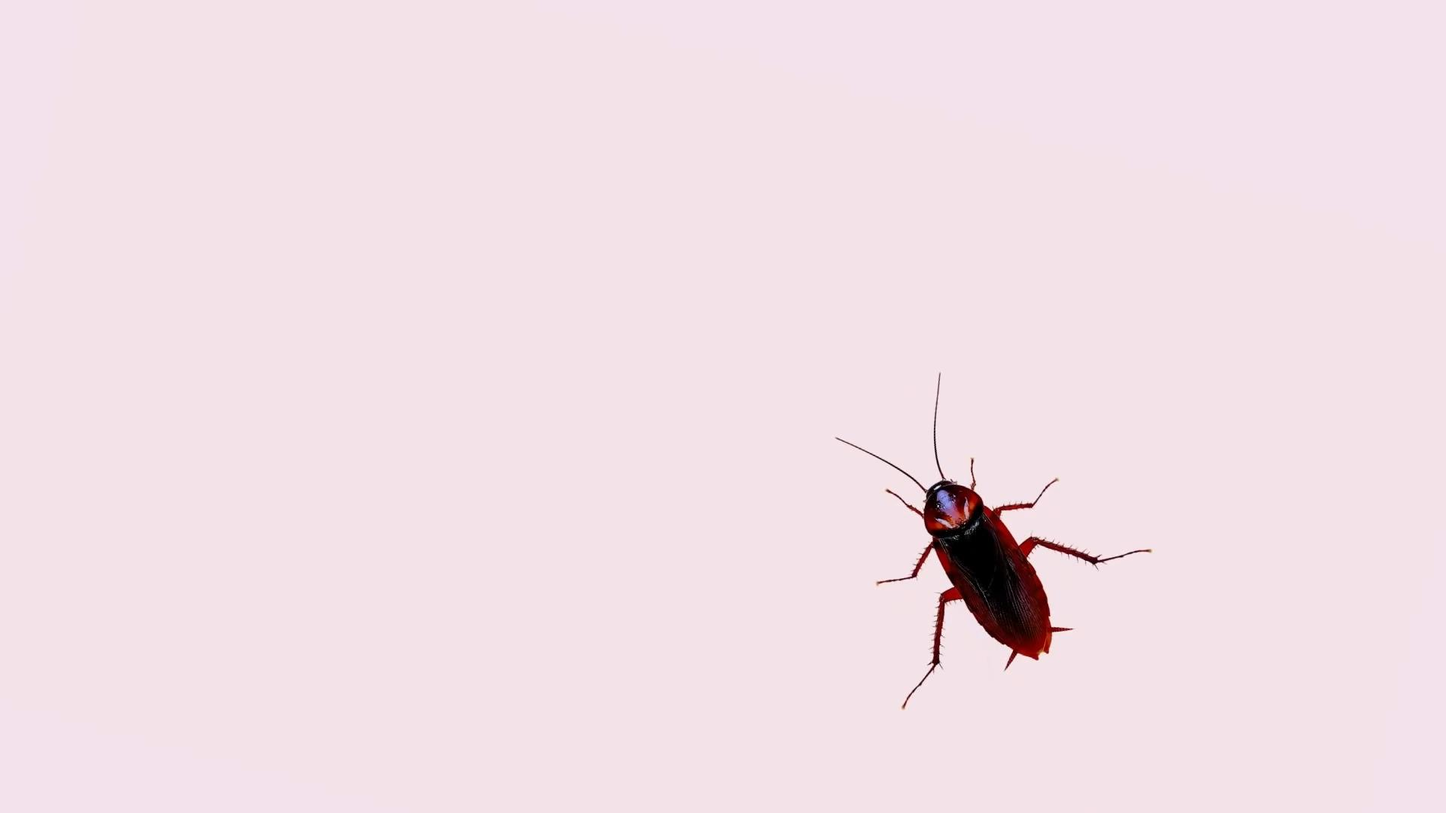cockroach: (812, 380, 1149, 714)
